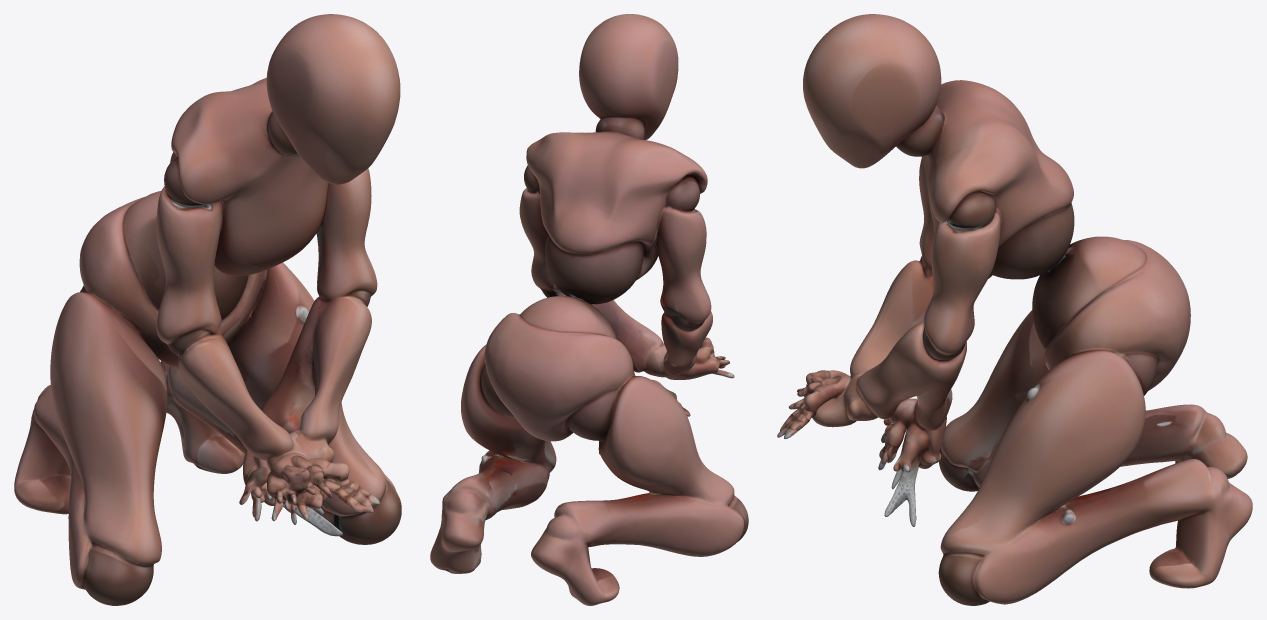
3 views of the same model, side by side, from view 1: azimuth 30°, elevation 25°; view 2: azimuth 150°, elevation 25°; view 3: azimuth 270°, elevation 25° (orthographic). The views are drawn at different scales.
Visible parts, largest first — view 1: mvadapter_node_d3713909-8f5e-4381-b2ff-7b69d80f82a5-e2_textu; view 2: mvadapter_node_d3713909-8f5e-4381-b2ff-7b69d80f82a5-e2_textu; view 3: mvadapter_node_d3713909-8f5e-4381-b2ff-7b69d80f82a5-e2_textu.
Part boxes in pixels (left/top/right/bottom): mvadapter_node_d3713909-8f5e-4381-b2ff-7b69d80f82a5-e2_textu: left=14, top=14, right=401, bottom=605; mvadapter_node_d3713909-8f5e-4381-b2ff-7b69d80f82a5-e2_textu: left=430, top=14, right=748, bottom=605; mvadapter_node_d3713909-8f5e-4381-b2ff-7b69d80f82a5-e2_textu: left=777, top=14, right=1252, bottom=605.
Bounding box in the file's own units: 1.08 × 1.87 × 1.48.
Materials: 1 (1 with a texture image).
